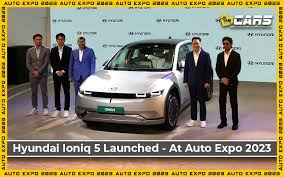Honda Ioniq: (73, 34, 188, 131)
